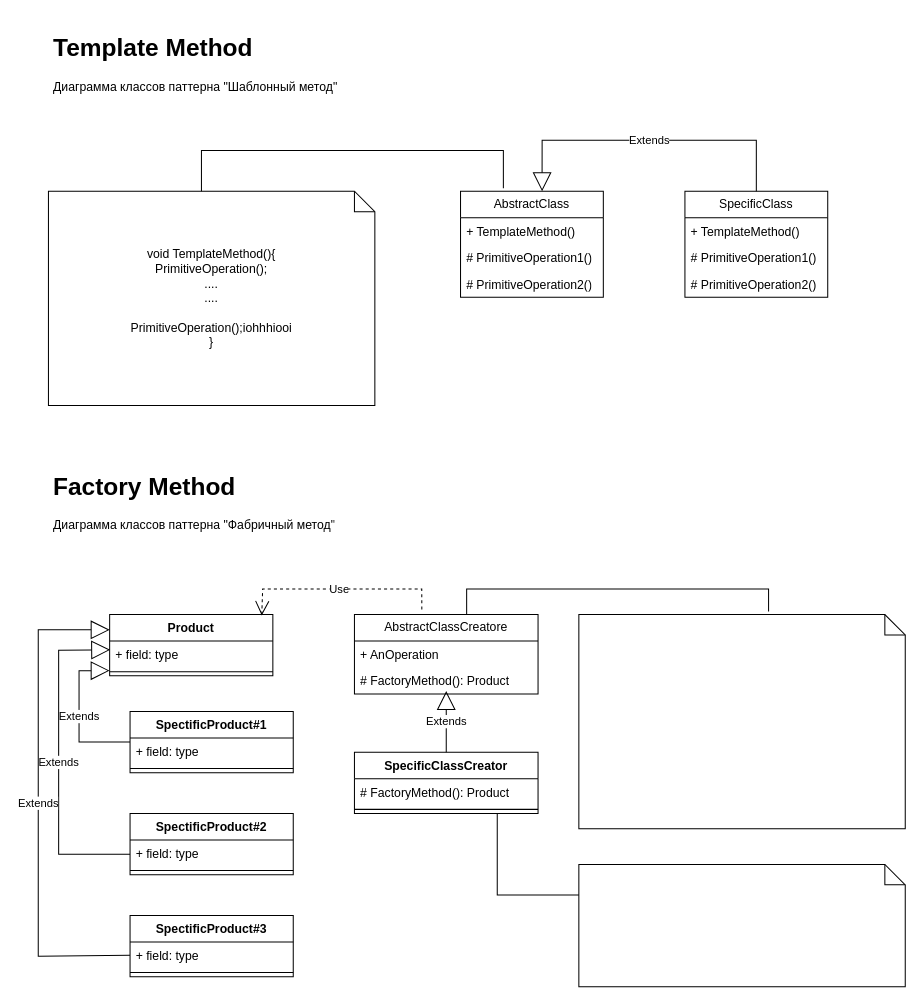
The diagram is 923 pixels wide and 1005 high, and some of its shapes have lost their labels. Each missing label, with the centre of its shape:
".... return SpecificProduct(); }" goes at point 741,925.
"void AnOperation(){ ... Product product = FactoryMethod(); .... return product }" goes at point 741,721.
